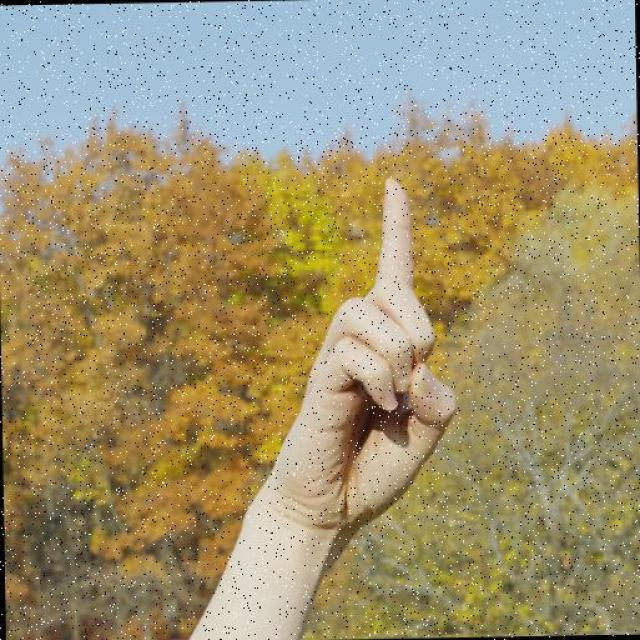D: (243, 172, 463, 538)
